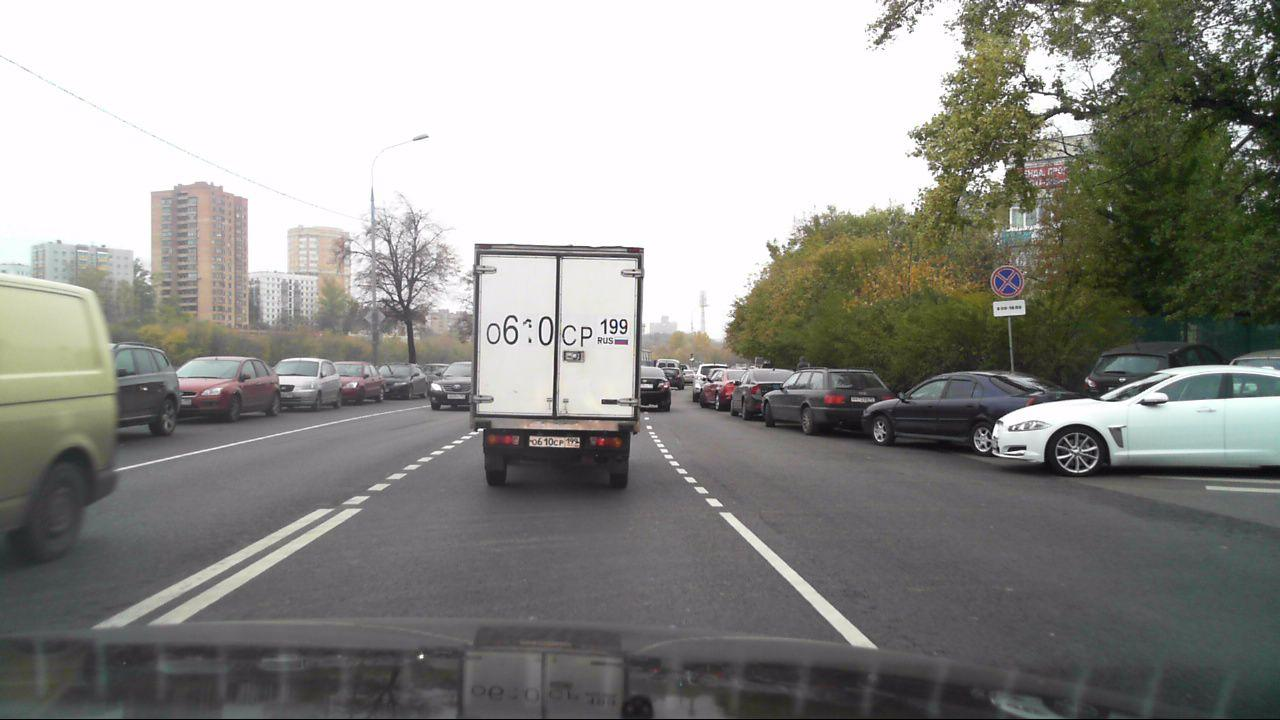3_27: (986, 266, 1027, 297)
8_5_4: (991, 299, 1025, 315)
